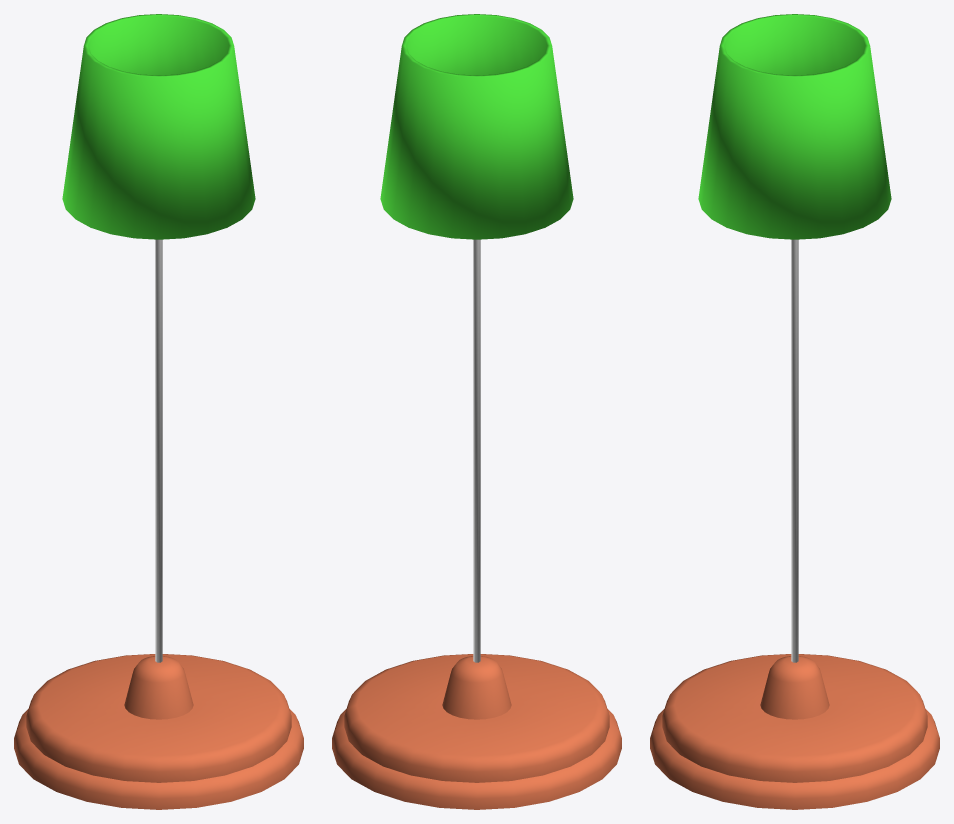
The model's file is lamp_01.fbx.
3 views of the same model, side by side, from view 1: azimuth 30°, elevation 25°; view 2: azimuth 150°, elevation 25°; view 3: azimuth 270°, elevation 25° (orthographic).
Visible parts, largest first — view 1: tall_lamp; view 2: tall_lamp; view 3: tall_lamp.
Part boxes in pixels (x1,y1,x2,y2): tall_lamp: [14, 14, 303, 809]; tall_lamp: [332, 14, 621, 809]; tall_lamp: [650, 14, 939, 809].
Bounding box in the file's own units: 0.6 × 1.61 × 0.6.
